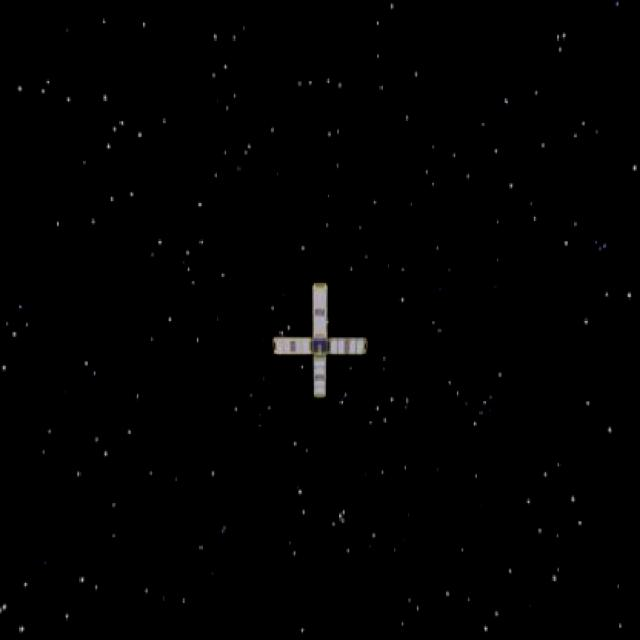medium_debris: (261, 277, 375, 404)
